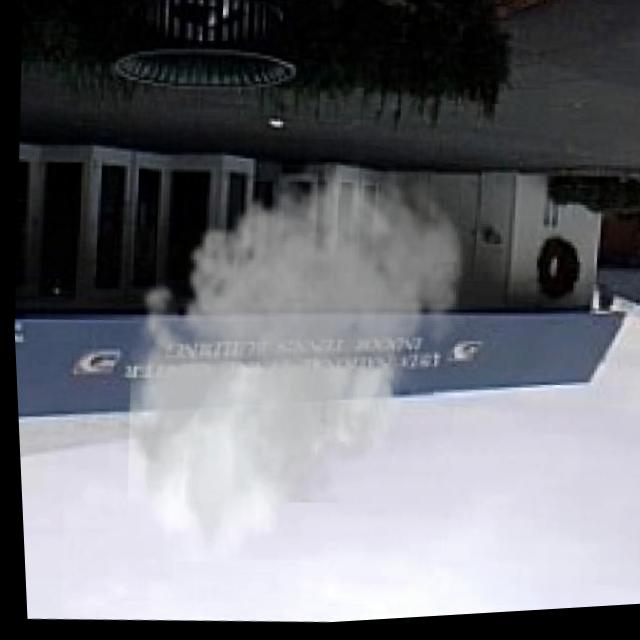no_helmet: (105, 146, 471, 568)
